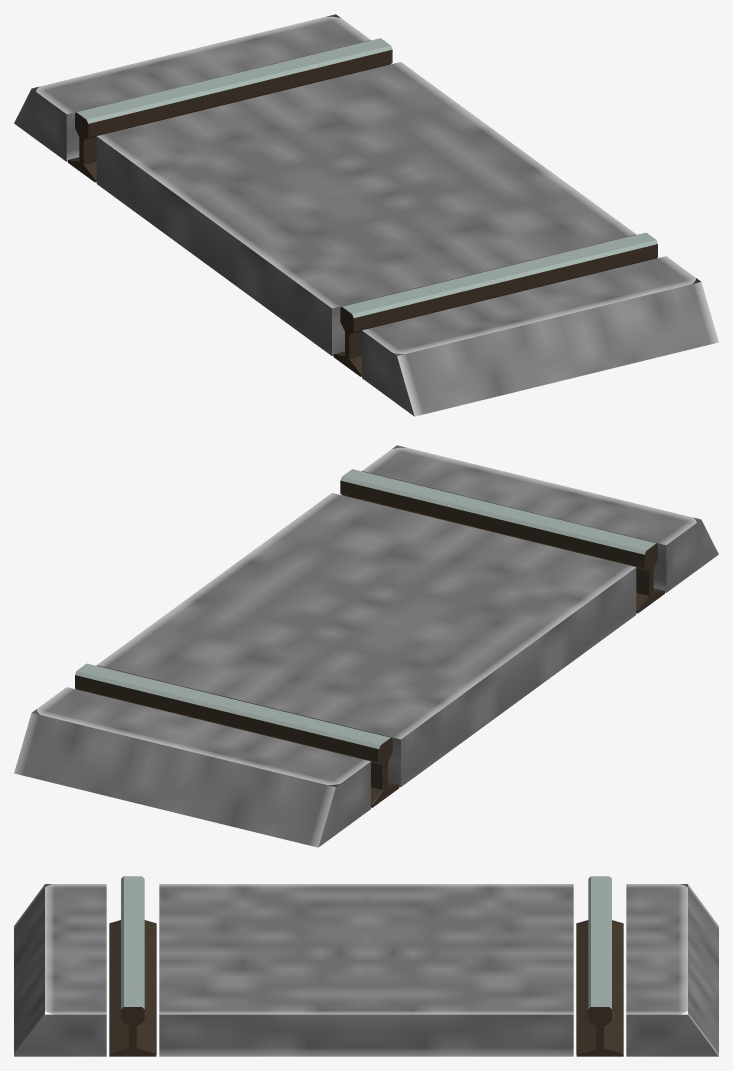
The model's file is spsf_tramtracks2.obj.
3 views of the same model, one above another, from view 1: azimuth 30°, elevation 25°; view 2: azimuth 150°, elevation 25°; view 3: azimuth 270°, elevation 25° (orthographic). The views are drawn at different scales.
Visible parts, largest first — view 1: RAIL_BASE, RAIL_RIGHT, RAIL_LEFT; view 2: RAIL_BASE, RAIL_LEFT, RAIL_RIGHT; view 3: RAIL_BASE, RAIL_LEFT, RAIL_RIGHT.
Boxes of the visible parts, x1,y1,x2,y2 form: RAIL_BASE: [14, 14, 718, 416]; RAIL_RIGHT: [68, 38, 392, 182]; RAIL_LEFT: [333, 232, 657, 376]; RAIL_BASE: [14, 445, 718, 847]; RAIL_LEFT: [340, 469, 664, 613]; RAIL_RIGHT: [75, 663, 399, 807]; RAIL_BASE: [14, 884, 718, 1056]; RAIL_LEFT: [109, 876, 156, 1056]; RAIL_RIGHT: [576, 876, 623, 1056].
Size of the model in its own units: 1 by 0.1783 by 2.28.
Materials: 1 (1 with a texture image).
